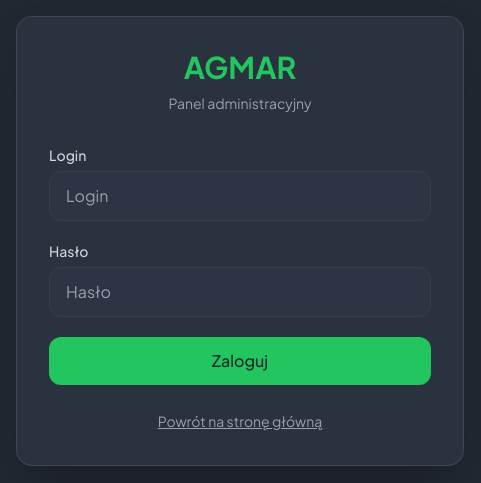
Test: LoginForm Component › should disable form during submission
Type "admin" into the field with placeholder "Login" at [240, 196], box [49,171,431,221]
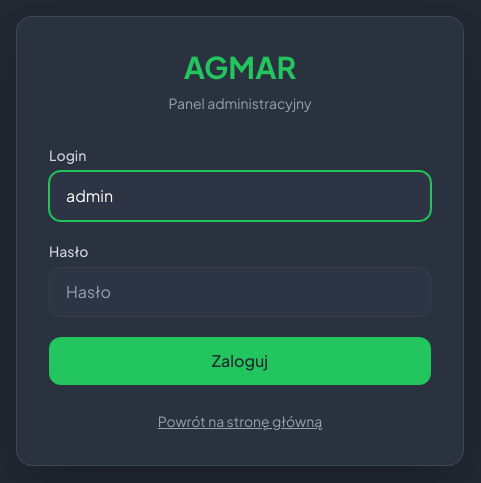
Type "password123" into the password field with placeholder "Hasło" at [240, 292], box [49,267,431,317]
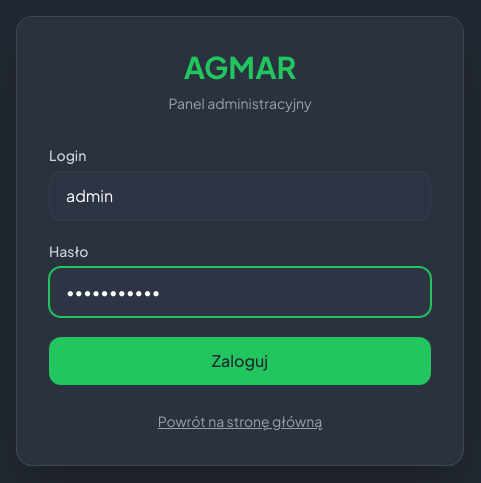
Click the button "Zaloguj" at [240, 361], box [49,337,431,385]
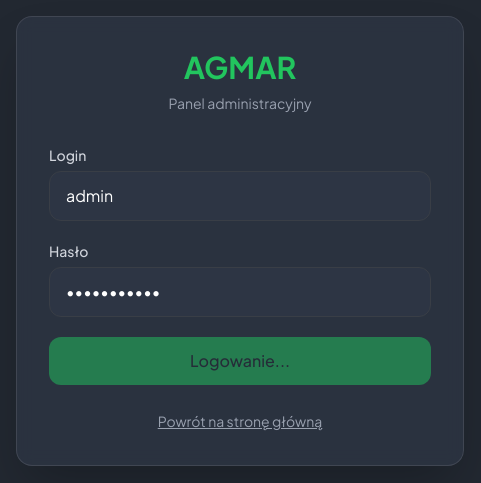
Expected: the field with placeholder "Login" is disabled, [49,171,431,221]
Expected: the password field with placeholder "Hasło" is disabled, [49,267,431,317]
Expected: the button "Logowanie..." is disabled, [49,337,431,385]
